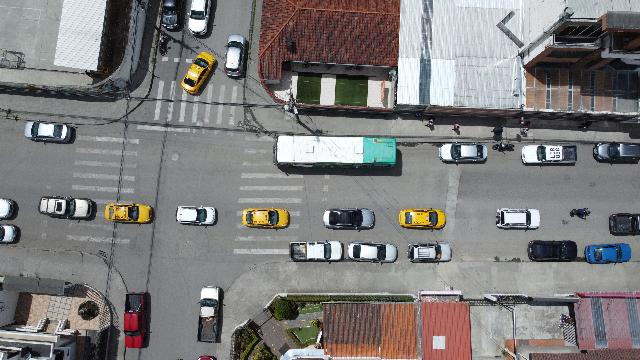Vehiculo: (180, 52, 216, 94), (124, 292, 150, 348), (38, 196, 92, 220), (198, 286, 220, 342), (323, 207, 375, 230), (522, 144, 576, 166), (290, 240, 344, 262), (528, 240, 578, 262), (347, 241, 397, 263), (24, 121, 72, 143), (105, 202, 153, 224), (593, 141, 639, 163), (242, 207, 290, 228), (224, 34, 246, 78), (496, 208, 540, 230), (399, 208, 445, 229), (406, 241, 452, 262), (439, 144, 487, 164), (584, 243, 632, 263), (176, 206, 216, 226), (188, 1, 210, 36), (609, 213, 639, 235), (280, 348, 332, 360), (162, 0, 178, 30), (0, 224, 18, 244), (0, 198, 14, 220), (198, 356, 216, 360)
